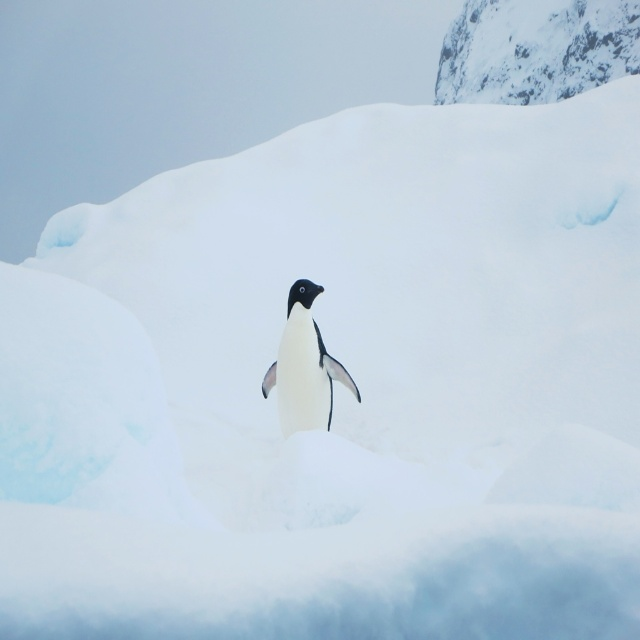Penguin: (262, 279, 361, 437)
